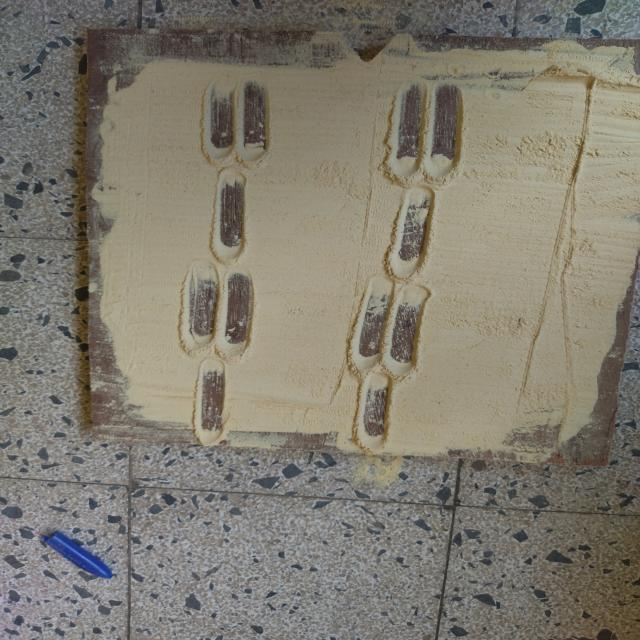double: (378, 74, 473, 190), (342, 270, 438, 376), (176, 259, 260, 362), (196, 75, 277, 169)
single: (384, 180, 442, 282), (207, 167, 255, 267), (190, 354, 238, 448), (350, 367, 400, 455)
